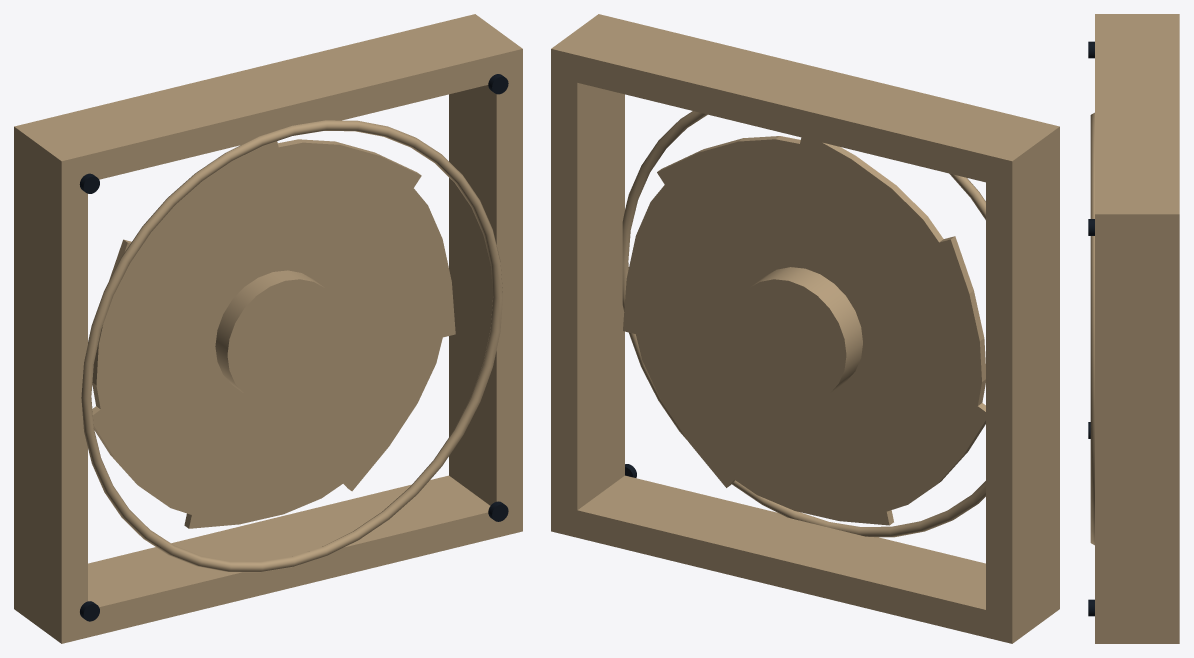
The model's file is retail-noctua-nf-a14x25-g2-pwm.glb.
3 views of the same model, side by side, from view 1: azimuth 30°, elevation 25°; view 2: azimuth 150°, elevation 25°; view 3: azimuth 270°, elevation 25° (orthographic). The views are drawn at different scales.
Parts seen in each view (by area): view 1: Frame edge (×4), Blade (×7), Intake rim, Motor hub; view 2: Frame edge (×4), Blade (×7), Motor hub, Intake rim; view 3: Frame edge (×3), Intake rim.
Part boxes in pixels (x1,y1,x2,y2): Frame edge (×4): [14, 14, 522, 643]; Blade (×7): [92, 139, 455, 528]; Intake rim: [81, 120, 502, 572]; Motor hub: [215, 270, 342, 402]; Frame edge (×4): [551, 14, 1059, 643]; Blade (×7): [623, 136, 985, 525]; Motor hub: [731, 267, 862, 402]; Intake rim: [622, 111, 985, 537]; Frame edge (×3): [1095, 14, 1179, 643]; Intake rim: [1090, 112, 1094, 545].
Bounding box in the file's own units: 0.14 × 0.14 × 0.027.
